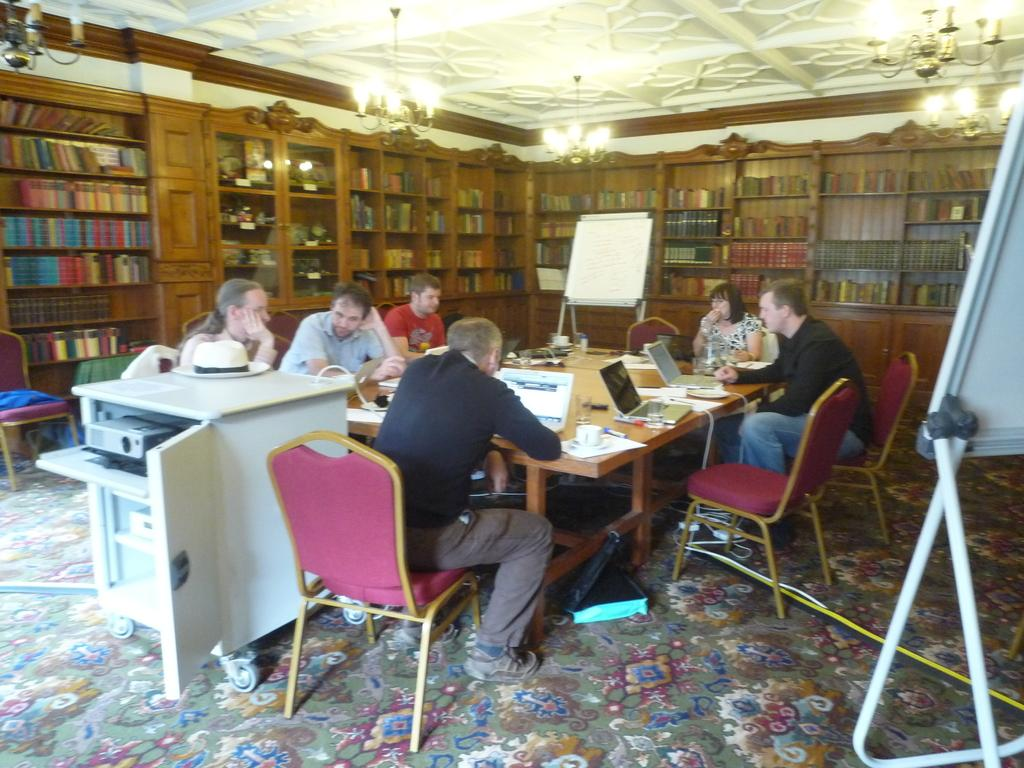Chair: (265, 430, 482, 752), (672, 376, 860, 619), (0, 330, 79, 490), (625, 316, 679, 352)
Laptop: (598, 359, 692, 425), (493, 367, 574, 433), (643, 339, 726, 390)
